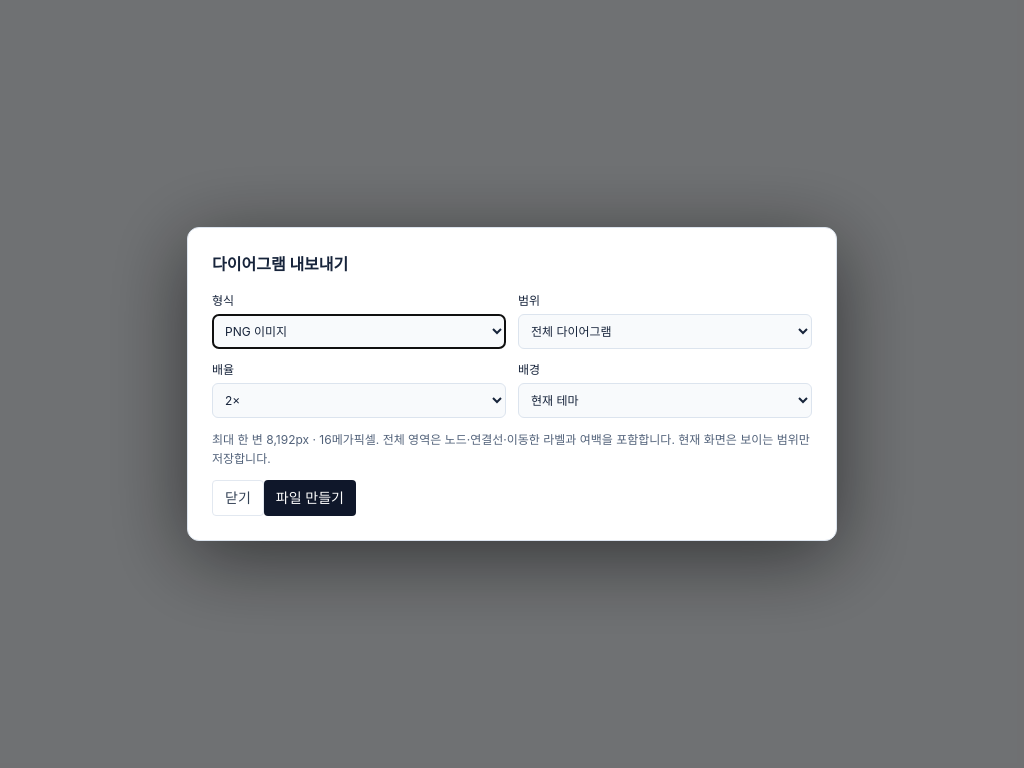
reports failures, allows retry and disables raster scaling for SVG
Select "SVG 이미지" in the dropdown named "출력 형식" at point(359, 331), box [212,314,506,349]
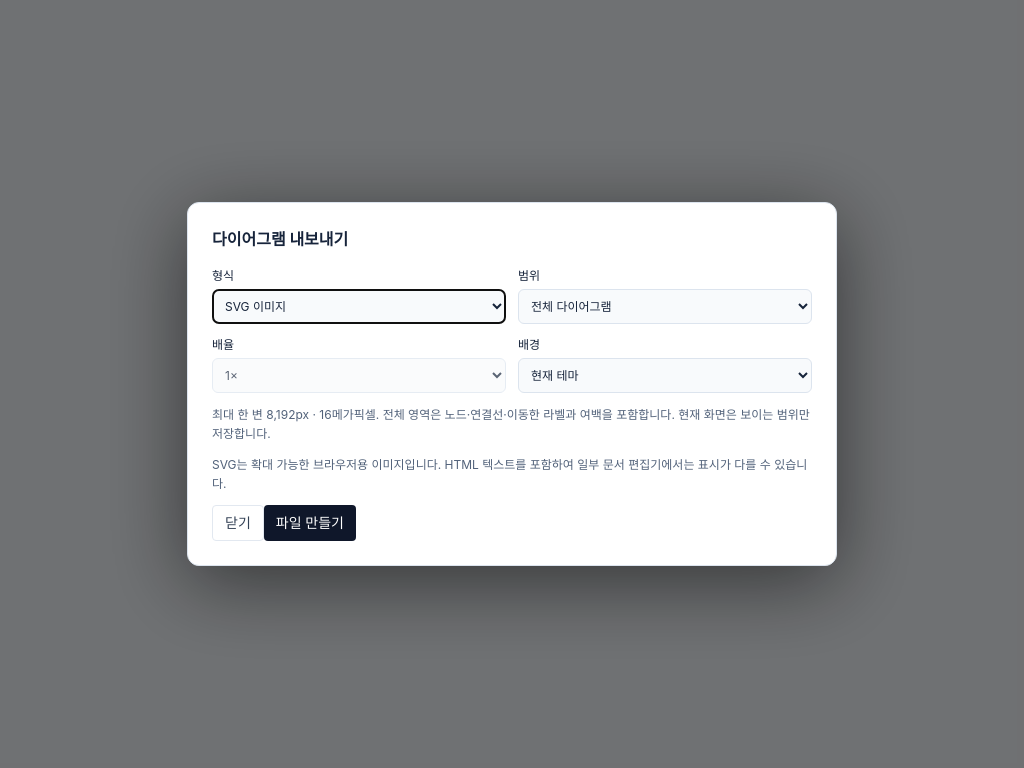
Now the dropdown named "출력 배율" is disabled, box [212,358,506,393]
Click the button "파일 만들기" at point(310, 523), box [264,505,356,541]
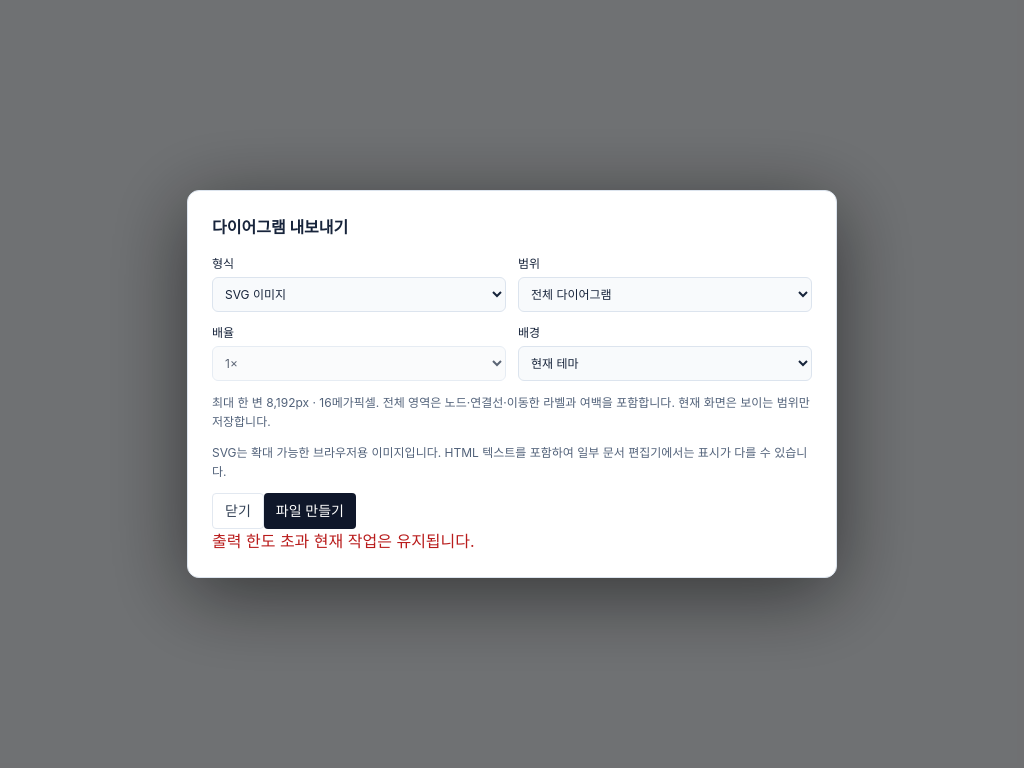
Expected: the button "파일 만들기" is enabled, [264,493,356,529]
Now the message shows "현재 작업은 유지", box [309,531,475,551]
